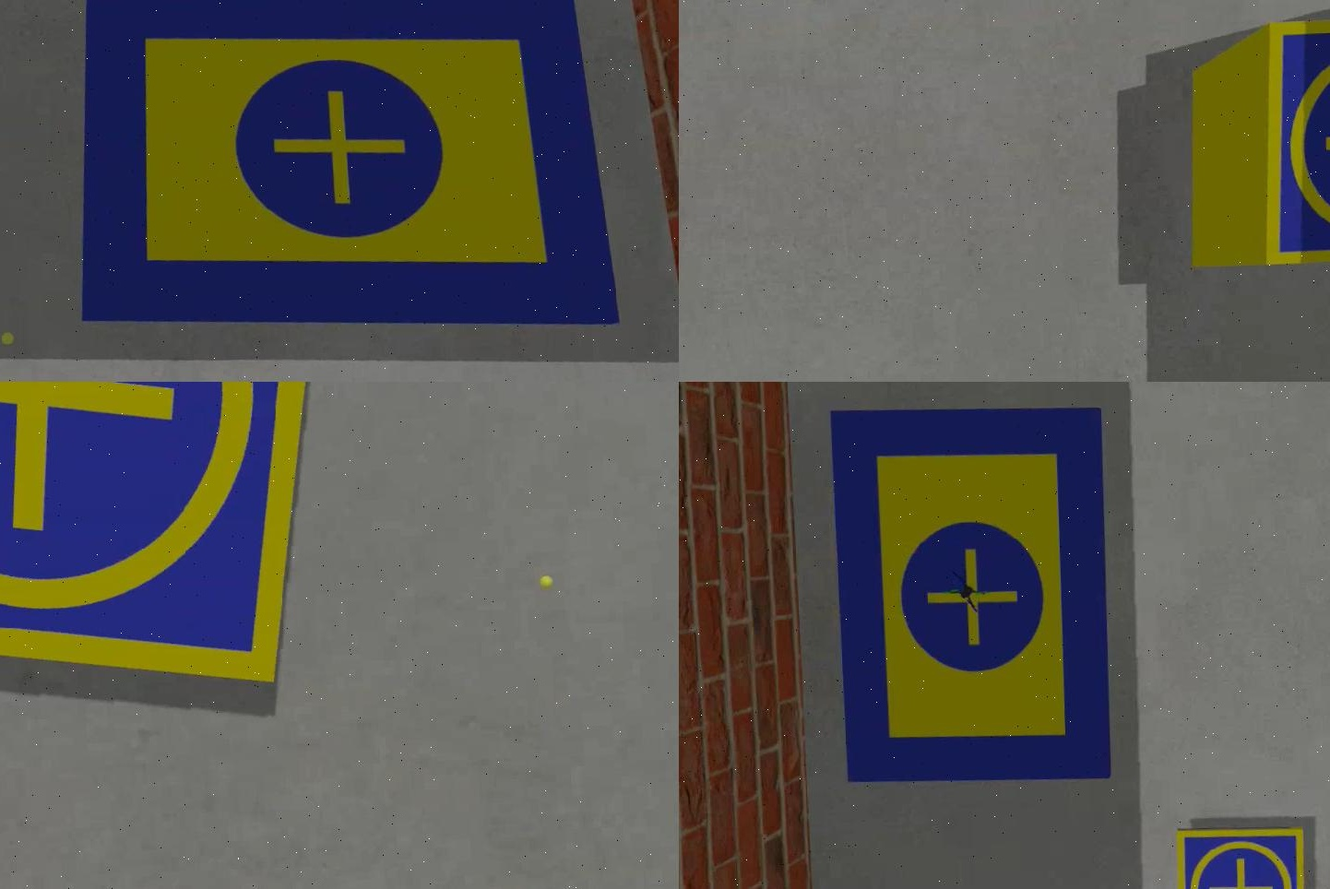large_base: (68, 1, 622, 339), (828, 400, 1111, 790)
small_base: (0, 382, 332, 705), (1246, 14, 1328, 269), (1170, 824, 1308, 889)
